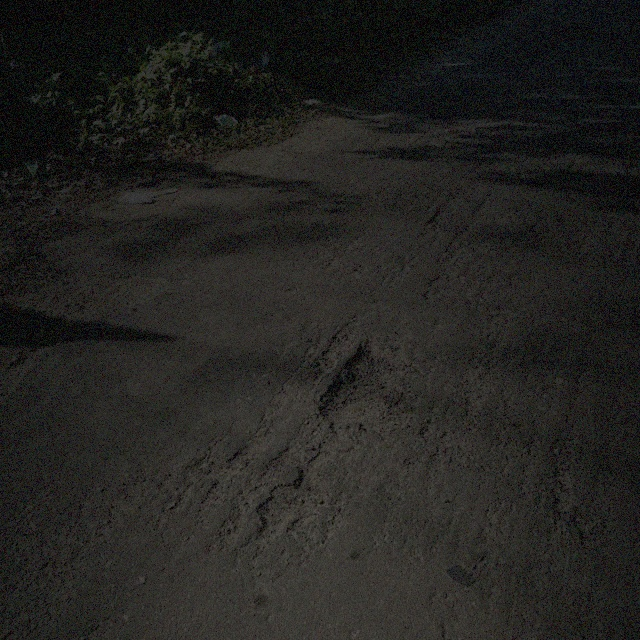pothole: (314, 337, 398, 428), (251, 471, 326, 538)
